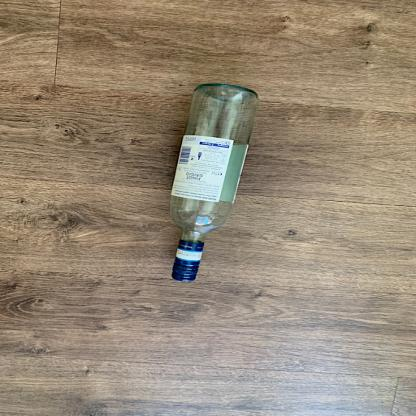trash: (160, 82, 262, 287)
